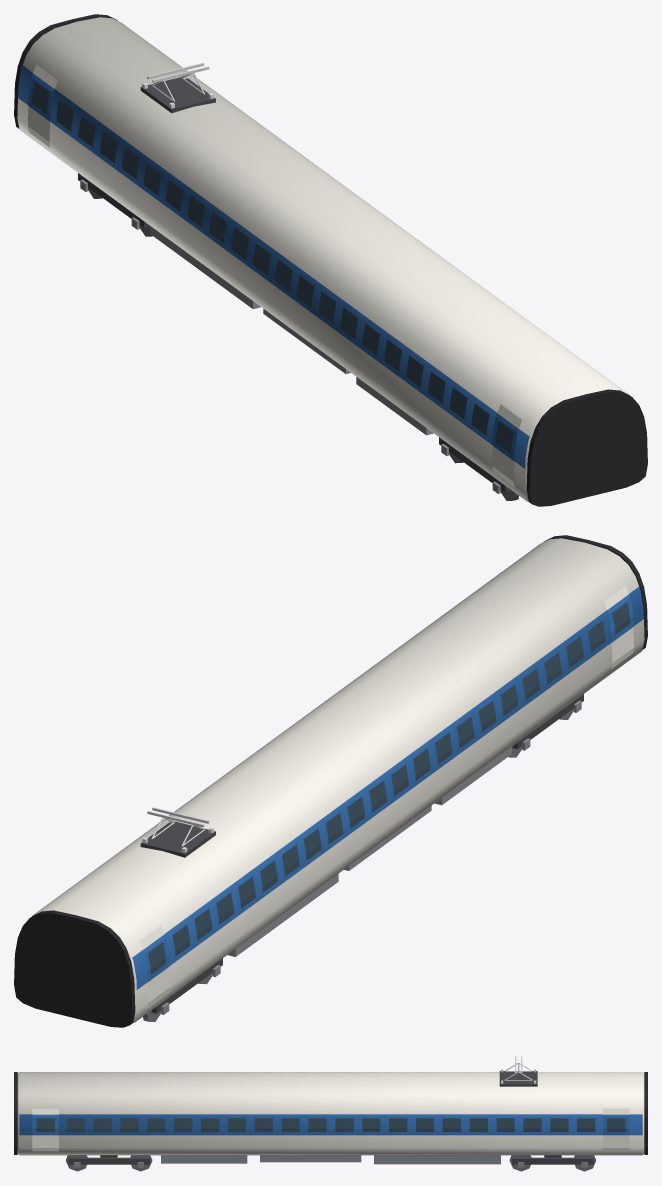
File: middle_2.fbx
3 views of the same model, one above another, from view 1: azimuth 30°, elevation 25°; view 2: azimuth 150°, elevation 25°; view 3: azimuth 270°, elevation 25° (orthographic). The views are drawn at different scales.
Visible parts, largest first — view 1: 23_middle_2; view 2: 23_middle_2; view 3: 23_middle_2.
Boxes of the visible parts, x1,y1,x2,y2 form: 23_middle_2: [14, 14, 647, 506]; 23_middle_2: [14, 535, 647, 1027]; 23_middle_2: [14, 1056, 647, 1171].
Size of the model in its own units: 3.37 by 4.25 by 25.
